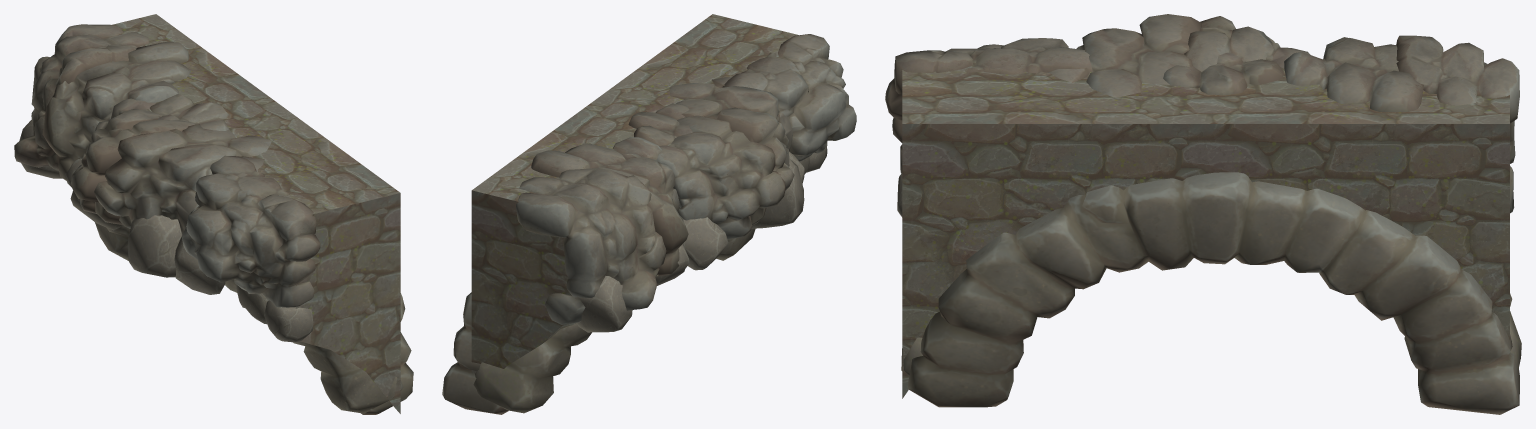
The model's file is SM_FW01_Ruins_Int_Ceiling_A_4x4_Brkn_04.fbx.
The picture shows the model from 3 angles, left to right: view 1: azimuth 30°, elevation 25°; view 2: azimuth 150°, elevation 25°; view 3: azimuth 270°, elevation 25°; orthographic projection. The views are drawn at different scales.
Parts seen in each view (by area): view 1: SM_FW01_Ruins_Int_Ceiling_A_4x4_Brkn_04_LOD0, SM_FW01_Ruins_Int_Ceiling_A_4x4_Brkn_04; view 2: SM_FW01_Ruins_Int_Ceiling_A_4x4_Brkn_04_LOD0, SM_FW01_Ruins_Int_Ceiling_A_4x4_Brkn_04; view 3: SM_FW01_Ruins_Int_Ceiling_A_4x4_Brkn_04_LOD0, SM_FW01_Ruins_Int_Ceiling_A_4x4_Brkn_04.
Boxes of the visible parts, x1,y1,x2,y2 form: SM_FW01_Ruins_Int_Ceiling_A_4x4_Brkn_04_LOD0: (14, 24, 413, 414); SM_FW01_Ruins_Int_Ceiling_A_4x4_Brkn_04: (112, 14, 400, 413); SM_FW01_Ruins_Int_Ceiling_A_4x4_Brkn_04_LOD0: (442, 34, 856, 414); SM_FW01_Ruins_Int_Ceiling_A_4x4_Brkn_04: (471, 14, 798, 373); SM_FW01_Ruins_Int_Ceiling_A_4x4_Brkn_04_LOD0: (885, 14, 1521, 414); SM_FW01_Ruins_Int_Ceiling_A_4x4_Brkn_04: (902, 59, 1509, 398).
Size of what is drawn, in the model's own units: 2.14 by 2.16 by 4.19.
